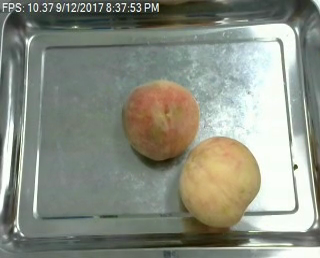Peach: (179, 135, 261, 229), (122, 80, 200, 159)
